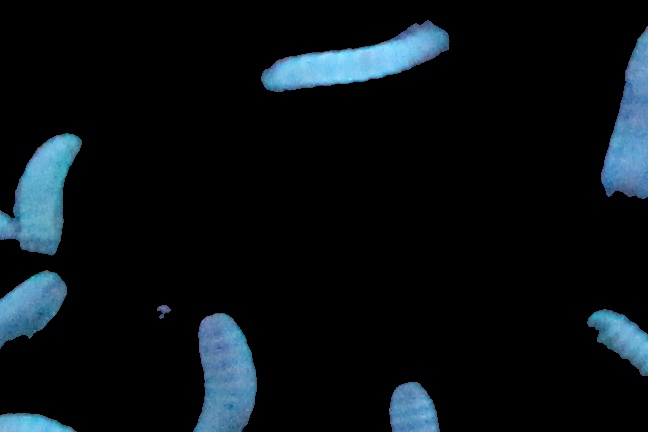larvae: (261, 19, 455, 95), (13, 123, 82, 253), (192, 309, 259, 432), (580, 298, 648, 386), (1, 269, 71, 352), (388, 367, 450, 432)
